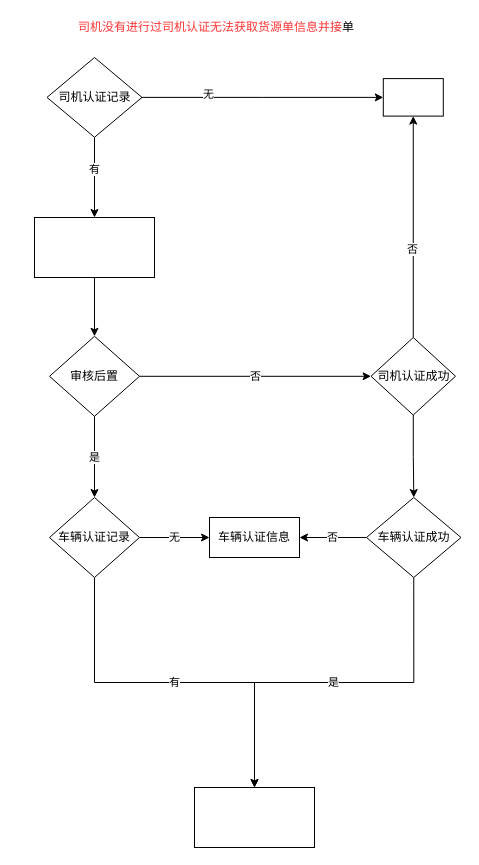
Image size: 479x865. Some labels were removed from this diagram. Each missing label, with the centre of its shape:
"去认证" goes at point 412,97.
"接单" goes at point 94,247.
"接单成功" goes at point 254,817.
